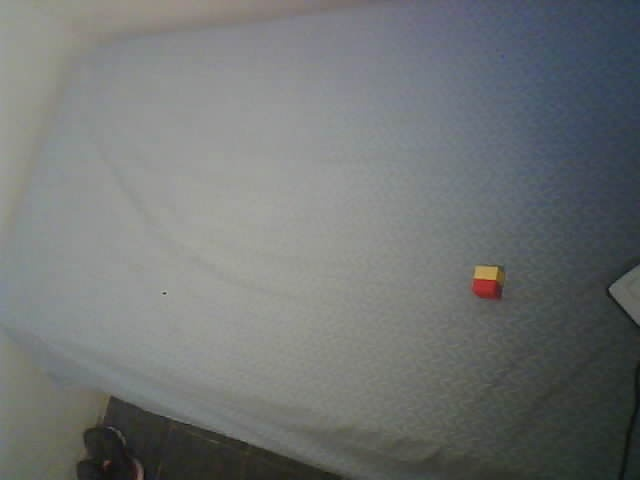lego: (470, 264, 505, 300)
